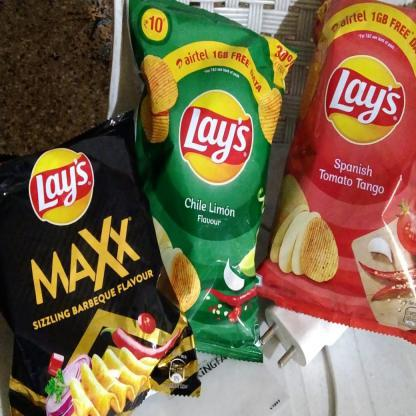chile_limon: (147, 9, 272, 361)
maxx_sizzling_barbeque: (2, 112, 151, 415)
tangy_tomato: (274, 0, 415, 354)
